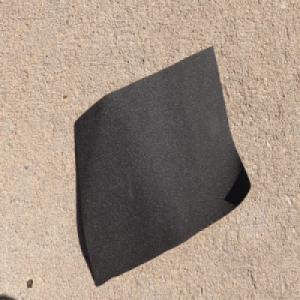PaintChip: (73, 44, 251, 287)
